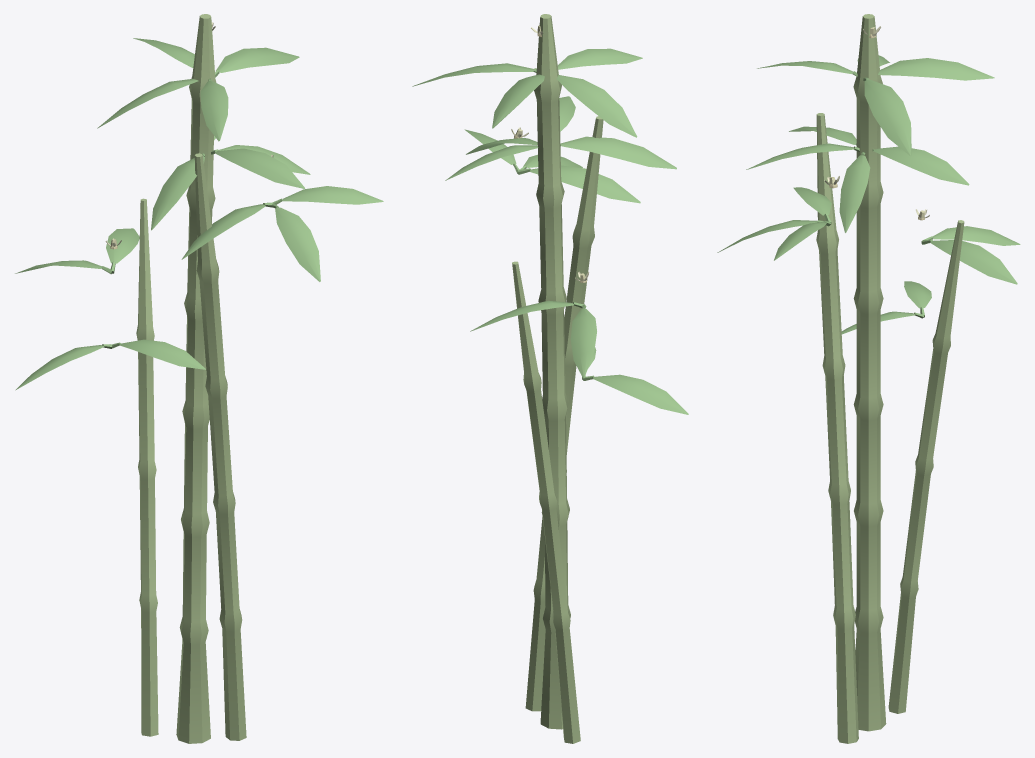
Rendered from bamboo.glb.
The picture shows the model from 3 angles, left to right: view 1: azimuth 30°, elevation 25°; view 2: azimuth 150°, elevation 25°; view 3: azimuth 270°, elevation 25°; orthographic projection. The views are drawn at different scales.
Parts seen in each view (by area): view 1: stem, foliage; view 2: stem, foliage; view 3: stem, foliage.
Part boxes in pixels (x1,y1,x2,y2): stem: (136,14,246,743); foliage: (15,38,383,390); stem: (512,14,603,743); foliage: (412,48,688,414); stem: (816,14,964,743); foliage: (717,55,1020,334).
Bounding box in the file's own units: 0.5049 × 1.16 × 0.4473.
